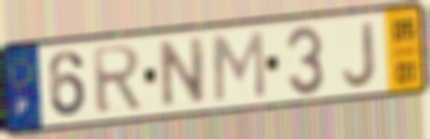3: (283, 23, 328, 98)
6: (47, 49, 89, 119)
J: (340, 18, 378, 90)
M: (210, 28, 268, 104)
N: (158, 34, 207, 111)
R: (89, 42, 144, 117)
